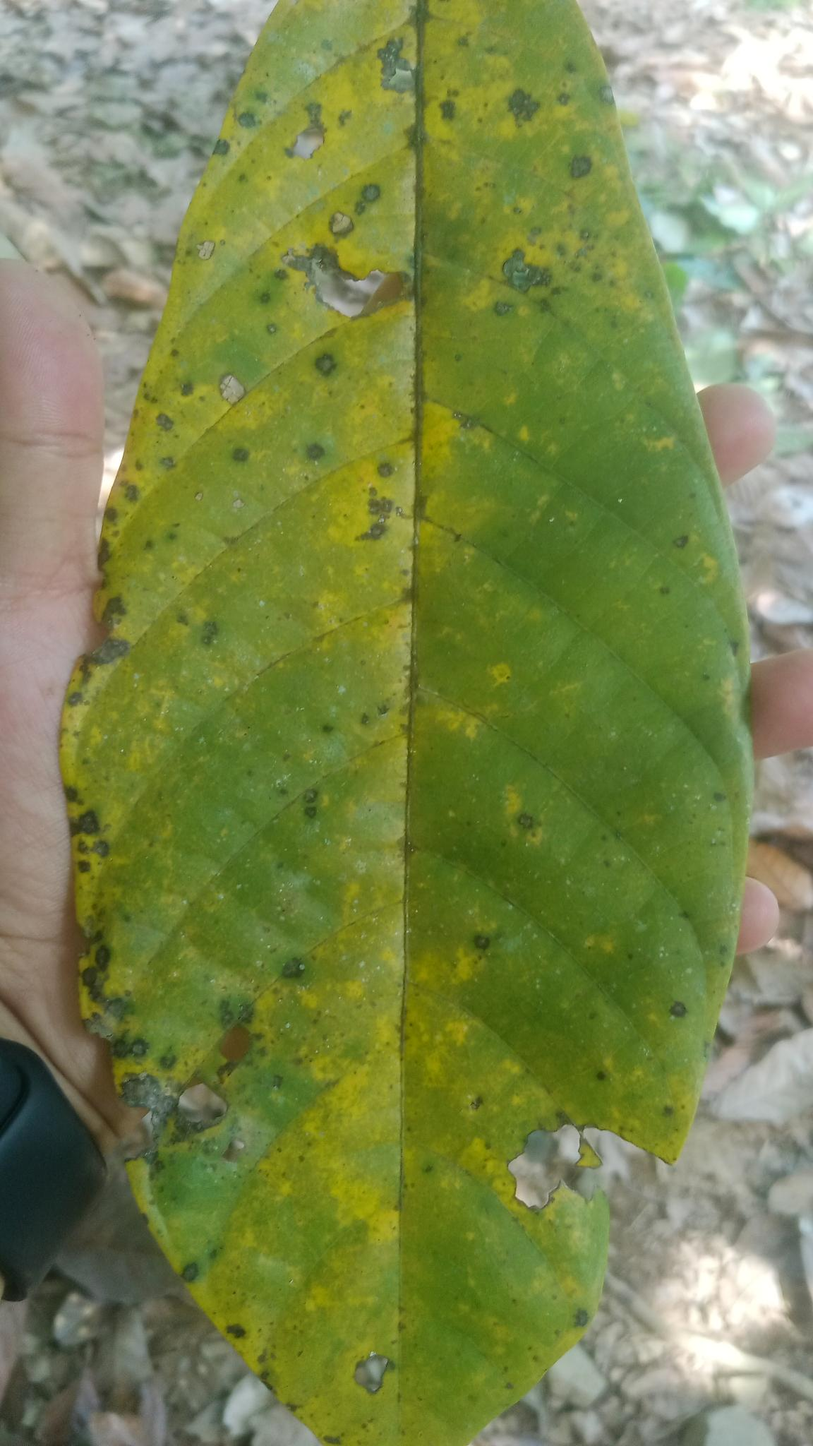Fosforo: (45, 0, 730, 1442)
